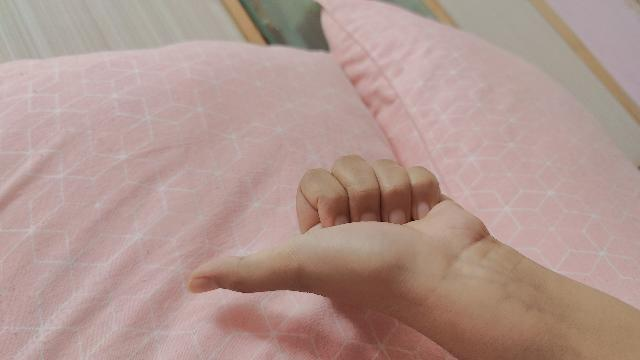shikhar: (187, 162, 640, 360)
